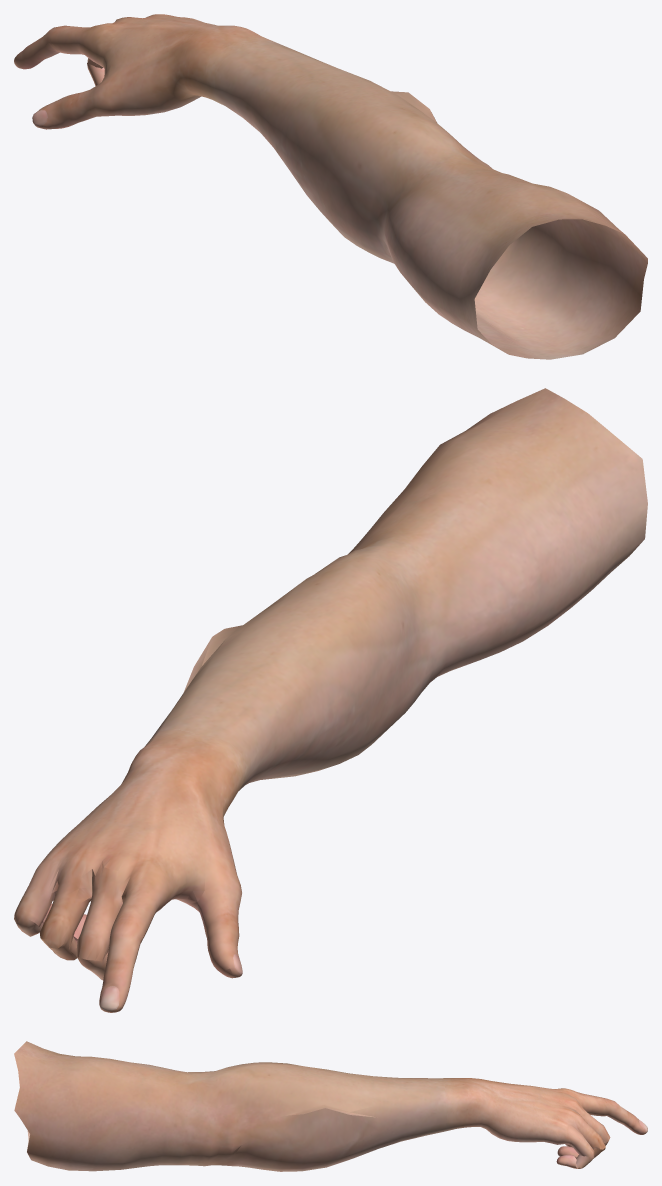
File: arm2.dae
The picture shows the model from 3 angles, top to bottom: view 1: azimuth 30°, elevation 25°; view 2: azimuth 150°, elevation 25°; view 3: azimuth 270°, elevation 25°; orthographic projection. The views are drawn at different scales.
Parts seen in each view (by area): view 1: Arms; view 2: Arms; view 3: Arms.
Boxes of the visible parts, box(x1,y1,x2,y2) form: Arms: box(14, 14, 647, 359); Arms: box(14, 388, 647, 1012); Arms: box(14, 1041, 647, 1171).
Size of the model in its own units: 2.62 by 2.08 by 9.76.
1 material, 1 textured.
